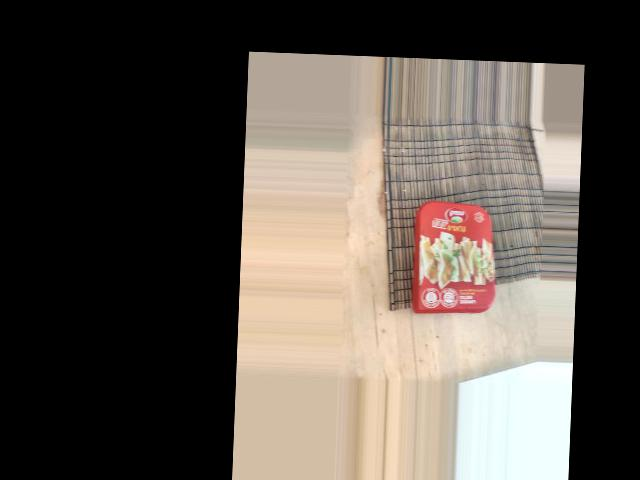cheese: (425, 161, 555, 257)
